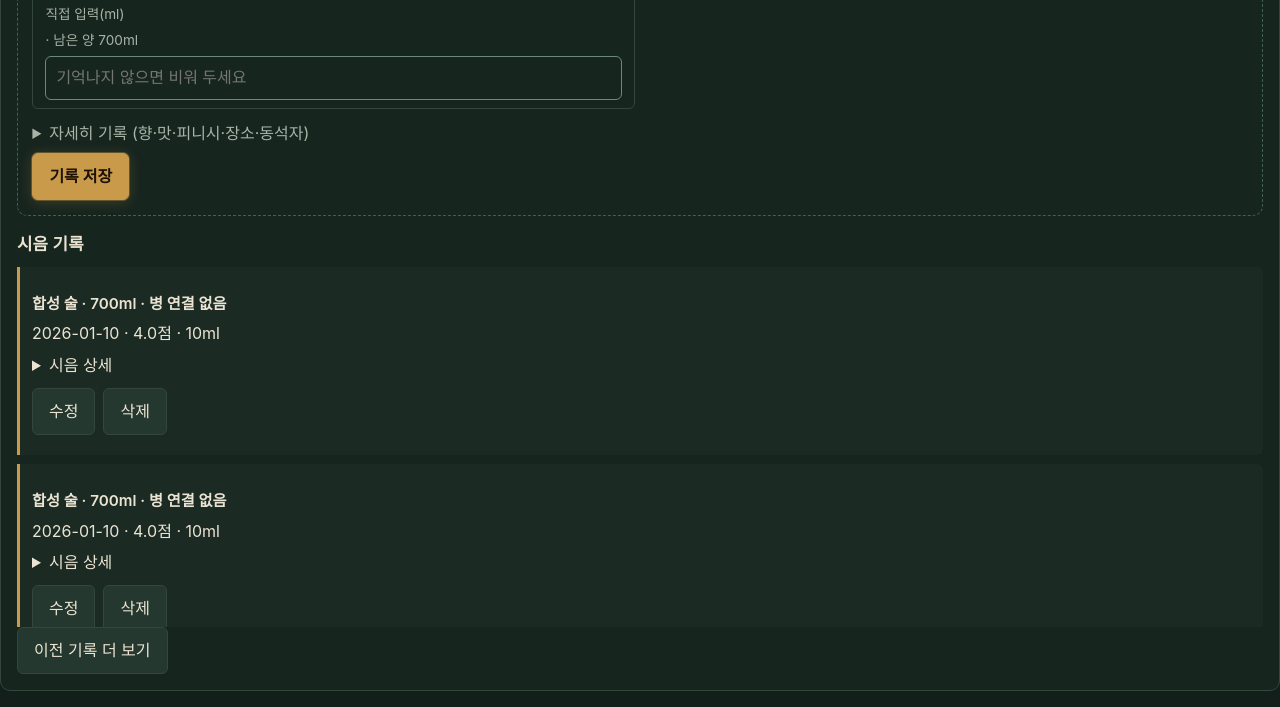
Scenario: 같은 날짜의 51건을 50건씩 커서로 받아 빠짐·중복 없이 보여준다
(page scrolled)
Click the button "이전 기록 더 보기": (92, 650) [17, 627, 168, 674]
(page scrolled)
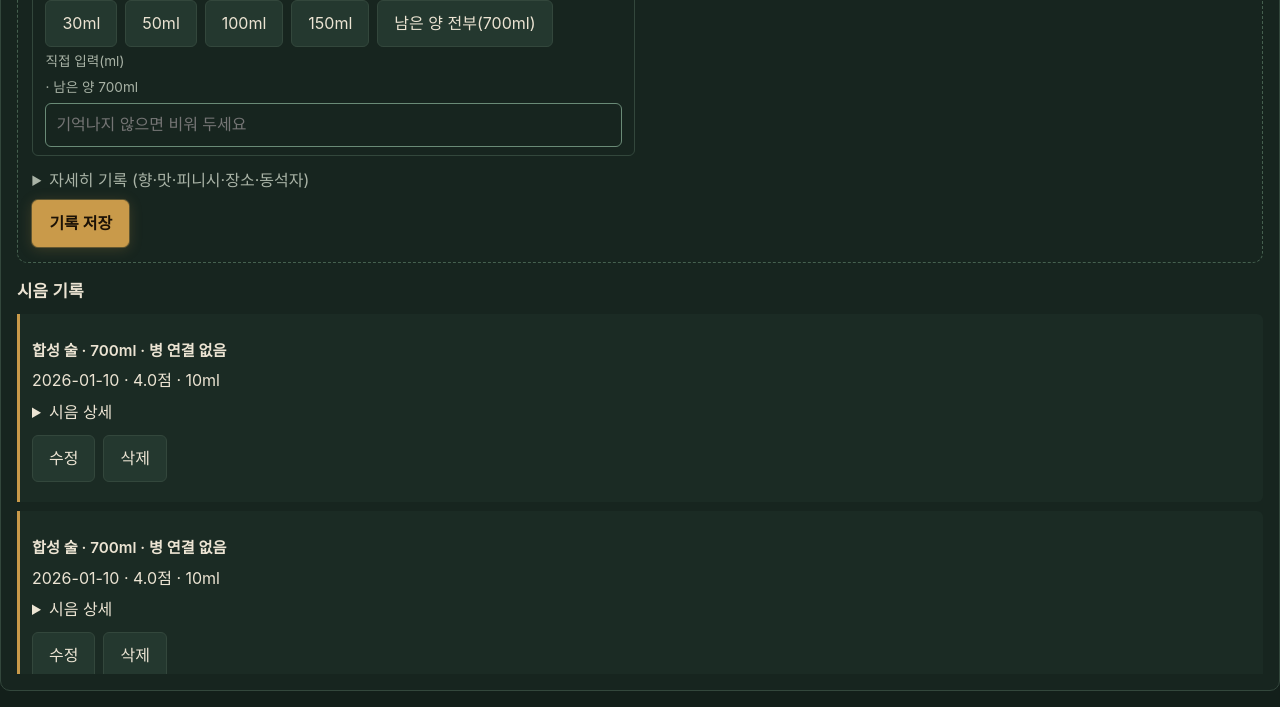
Now the button "이전 기록 더 보기" is gone
